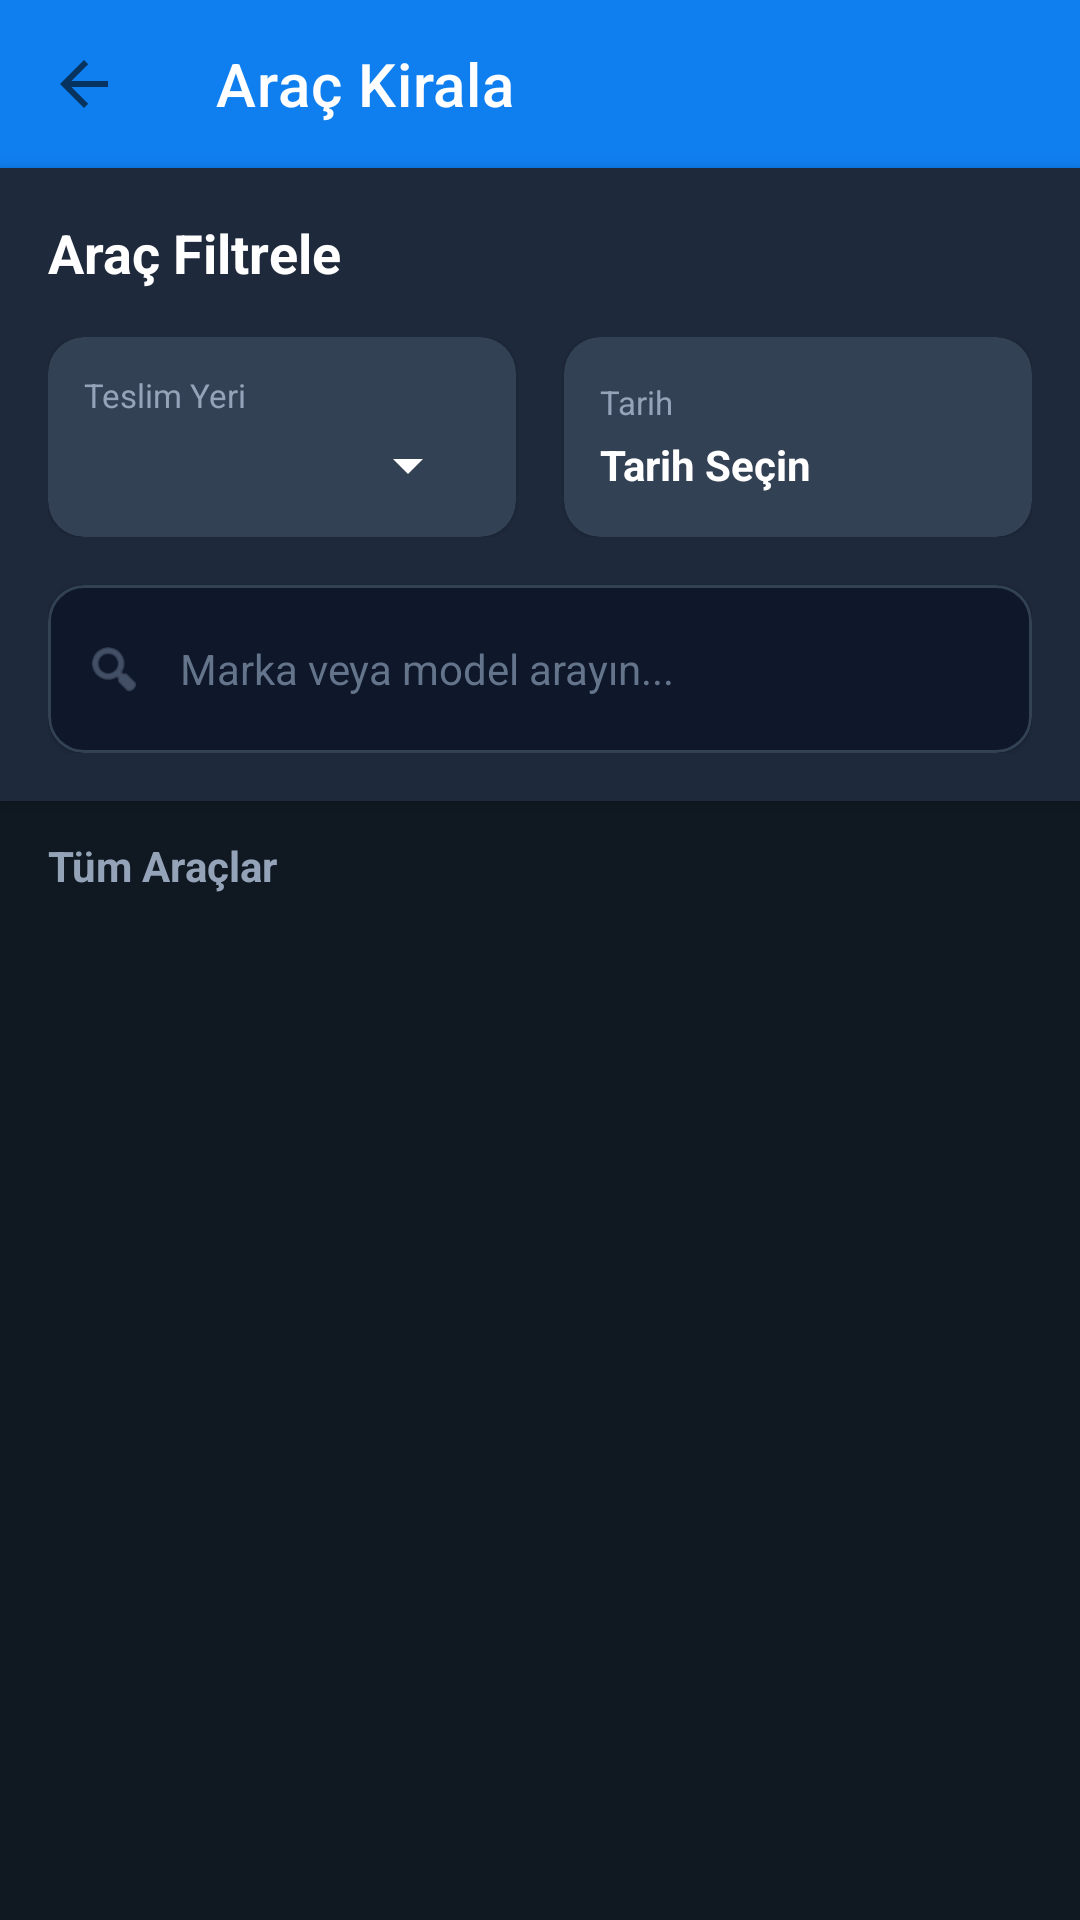

Point at icon controls on the screen. Image size 1080 × 1920, points as point (x, y).
search: point (114, 669)
